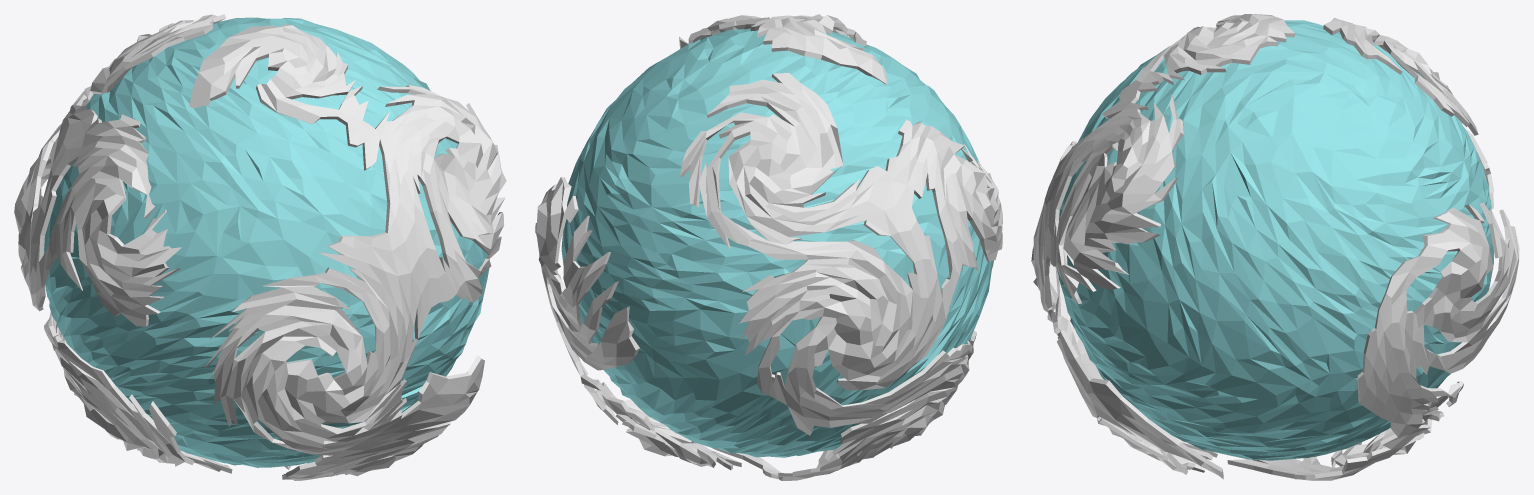
The model's file is air.fbx.
The picture shows the model from 3 angles, left to right: view 1: azimuth 30°, elevation 25°; view 2: azimuth 150°, elevation 25°; view 3: azimuth 270°, elevation 25°; orthographic projection. The views are drawn at different scales.
Visible parts, largest first — view 1: 02, 01; view 2: 02, 01; view 3: 01, 02.
Part boxes in pixels (x1,y1,x2,y2): 02: (14, 14, 506, 480); 01: (44, 17, 489, 467); 02: (535, 14, 1002, 480); 01: (561, 28, 992, 457); 01: (1057, 20, 1493, 460); 02: (1031, 14, 1519, 480).
Bounding box in the file's own units: 305 × 320 × 332.
